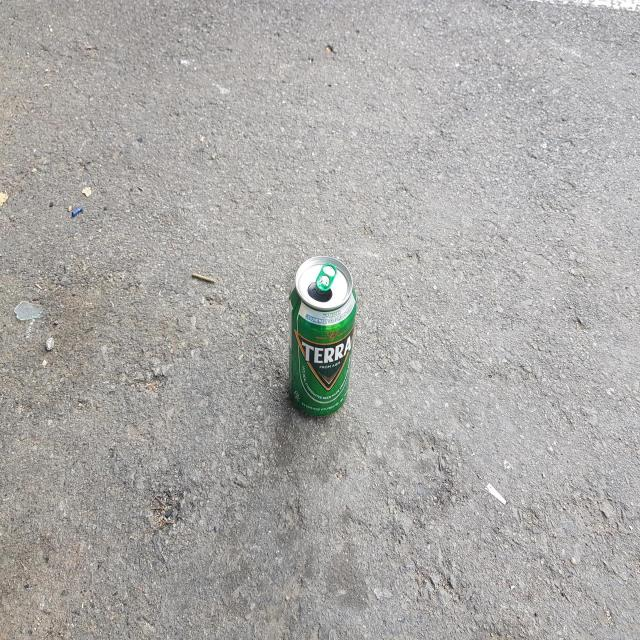can: (289, 256, 357, 416)
